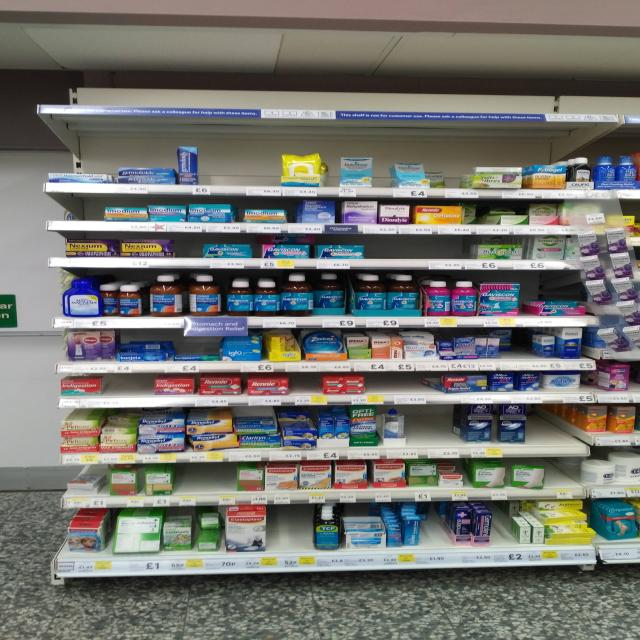void: (204, 120, 230, 194), (408, 65, 442, 118), (232, 120, 255, 196), (255, 119, 278, 195), (264, 67, 297, 117), (518, 65, 548, 120), (305, 67, 337, 118), (480, 67, 510, 121), (582, 66, 611, 121), (41, 70, 78, 113), (495, 501, 520, 564), (120, 68, 154, 114), (448, 65, 476, 120), (268, 506, 292, 570), (530, 403, 560, 454), (230, 67, 261, 116), (160, 68, 193, 114), (411, 404, 439, 458), (344, 67, 372, 120), (83, 68, 115, 114), (554, 65, 580, 121), (615, 64, 640, 122), (424, 506, 448, 566), (378, 66, 405, 119), (197, 67, 226, 115), (111, 374, 151, 407), (550, 457, 579, 498), (179, 463, 206, 506), (444, 404, 464, 459), (295, 504, 311, 572), (210, 464, 236, 504), (564, 404, 583, 455), (76, 195, 103, 230), (49, 192, 73, 231), (402, 236, 430, 268), (372, 236, 399, 268), (176, 233, 201, 267), (296, 374, 320, 405), (519, 329, 536, 371), (451, 161, 470, 198), (396, 373, 418, 404), (434, 237, 454, 268), (372, 372, 391, 404), (422, 373, 440, 405), (583, 372, 600, 403), (458, 236, 472, 268)
